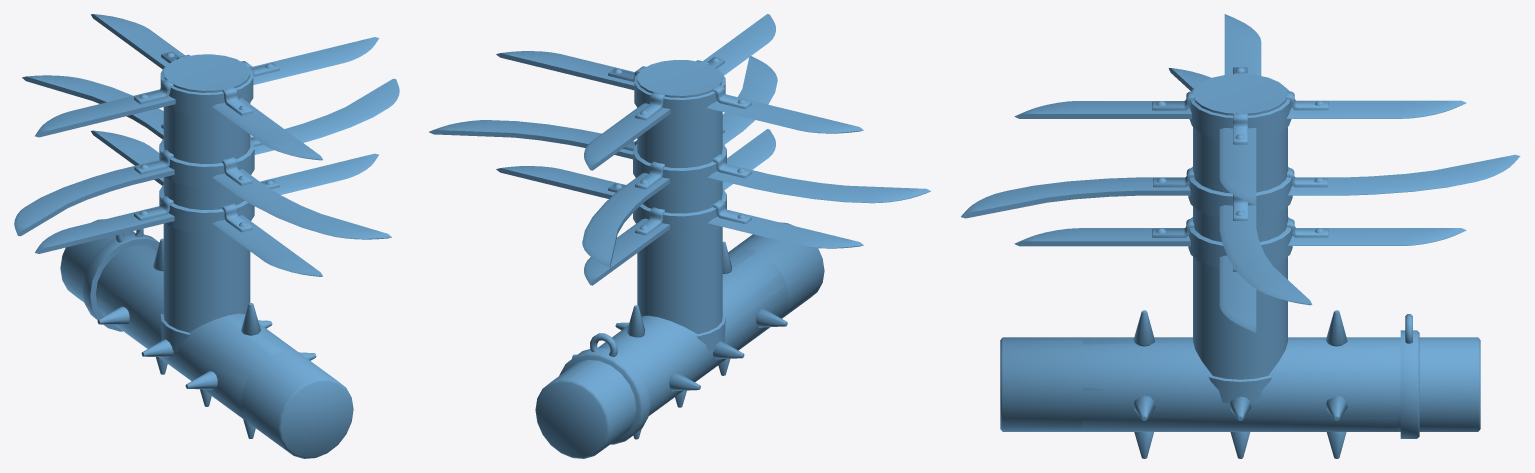
Rendered from Traps_02.fbx.
3 renders of one model, left to right at view 1: azimuth 30°, elevation 25°; view 2: azimuth 150°, elevation 25°; view 3: azimuth 270°, elevation 25°, orthographic. The views are drawn at different scales.
Parts seen in each view (by area): view 1: Rotor_Modular_02, Rotor_Modular_01, Log_01, Log_Spiked_01, Log_End_01; view 2: Rotor_Modular_01, Rotor_Modular_02, Log_01, Log_Spiked_01, Log_End_01; view 3: Log_01, Rotor_Modular_01, Rotor_Modular_02, Log_Spiked_01, Log_End_01.
Part boxes in pixels (x1,y1,x2,y2): Rotor_Modular_02: (14,66,399,351); Rotor_Modular_01: (35,14,379,352); Log_01: (60,219,353,458); Log_Spiked_01: (97,238,316,438); Log_End_01: (82,228,159,331); Rotor_Modular_01: (496,14,863,353); Rotor_Modular_02: (429,56,930,344); Log_01: (535,222,824,458); Log_Spiked_01: (572,241,788,439); Log_End_01: (559,333,650,444); Log_01: (1000,337,1480,431); Rotor_Modular_01: (1014,14,1466,403); Rotor_Modular_02: (961,68,1520,402); Log_Spiked_01: (1082,310,1397,458); Log_End_01: (1400,314,1419,438).
Size of the model in its own units: 175 by 125 by 175.
